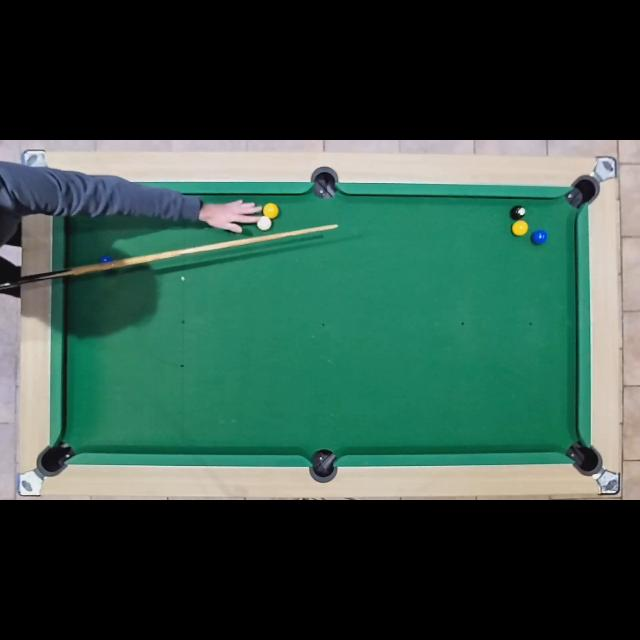Ball: (512, 220, 528, 236), (263, 203, 279, 219), (530, 230, 546, 246), (97, 256, 115, 270), (510, 205, 524, 219), (258, 216, 272, 230)
